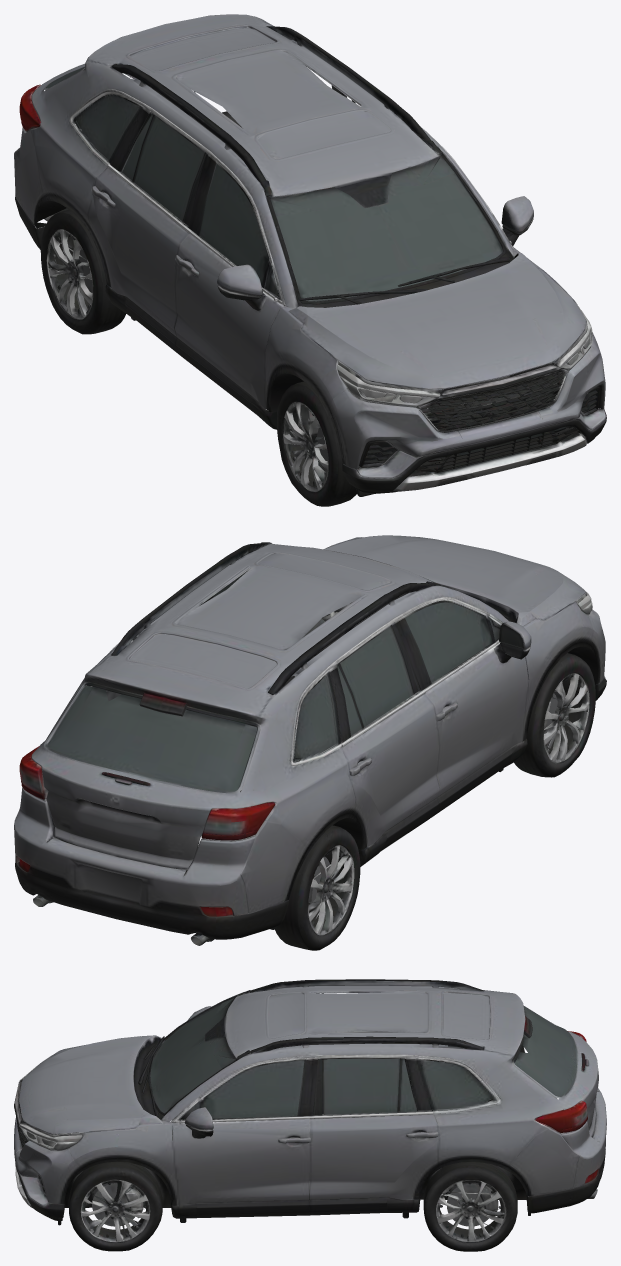
File: car-suv.glb
The picture shows the model from 3 angles, top to bottom: view 1: azimuth 30°, elevation 25°; view 2: azimuth 150°, elevation 25°; view 3: azimuth 270°, elevation 25°; orthographic projection. The views are drawn at different scales.
Parts seen in each view (by area): view 1: tripo_6f892044_b124_4939_bdd9_f17b5b24c1de; view 2: tripo_6f892044_b124_4939_bdd9_f17b5b24c1de; view 3: tripo_6f892044_b124_4939_bdd9_f17b5b24c1de.
Part boxes in pixels (x1,y1,x2,y2): tripo_6f892044_b124_4939_bdd9_f17b5b24c1de: (14, 14, 606, 506); tripo_6f892044_b124_4939_bdd9_f17b5b24c1de: (14, 535, 606, 950); tripo_6f892044_b124_4939_bdd9_f17b5b24c1de: (14, 979, 606, 1251).
Size of the model in its own units: 0.4575 by 0.3657 by 0.9995.
1 material, 1 textured.
